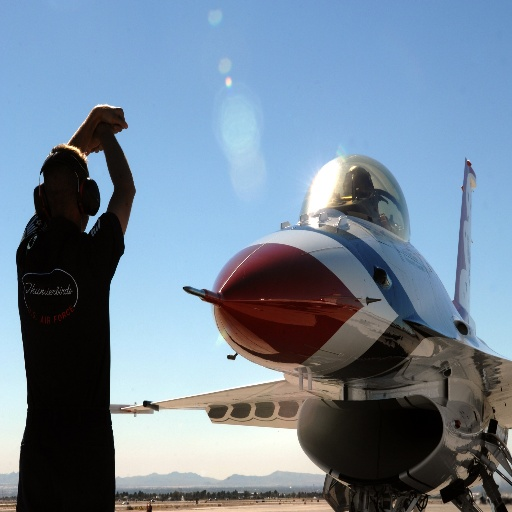hand: (81, 120, 114, 156), (102, 104, 127, 134)
